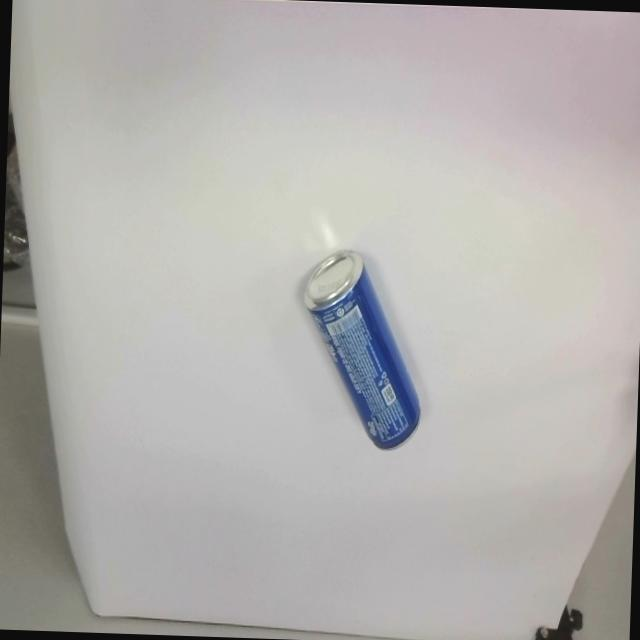debris: (296, 247, 426, 450)
